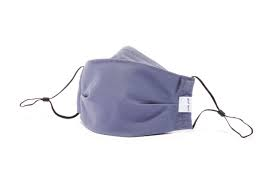FaceMask: (78, 45, 196, 137)
